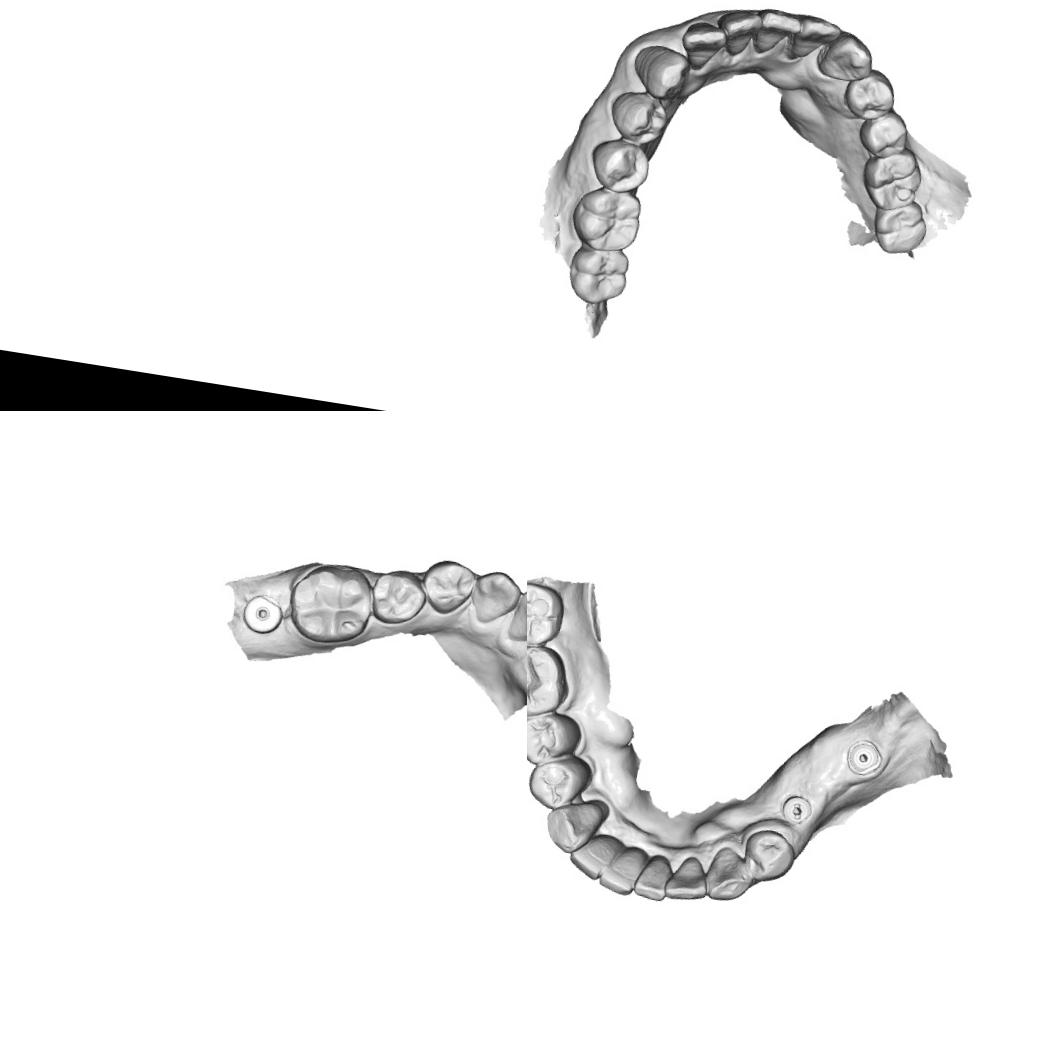canine: (540, 794, 607, 860), (628, 41, 694, 103), (816, 28, 878, 86), (702, 842, 756, 908), (466, 565, 522, 628)
implant: (239, 590, 286, 637), (843, 736, 886, 780)
implant_minus: (778, 792, 818, 830)
incisor: (788, 12, 843, 70), (751, 4, 804, 64), (662, 850, 716, 906), (566, 830, 621, 884), (714, 4, 764, 59), (677, 18, 727, 72), (596, 844, 646, 898), (630, 854, 674, 904), (505, 585, 527, 646)
molar: (284, 558, 380, 651), (566, 183, 645, 256), (856, 142, 928, 217), (563, 241, 633, 310), (866, 195, 932, 261), (527, 637, 575, 725), (527, 578, 568, 652)
premolar: (585, 135, 653, 197), (367, 564, 430, 630), (604, 88, 672, 148), (527, 705, 587, 772), (527, 752, 591, 814), (418, 555, 478, 619), (739, 825, 800, 886), (842, 65, 900, 124), (855, 106, 913, 162)
